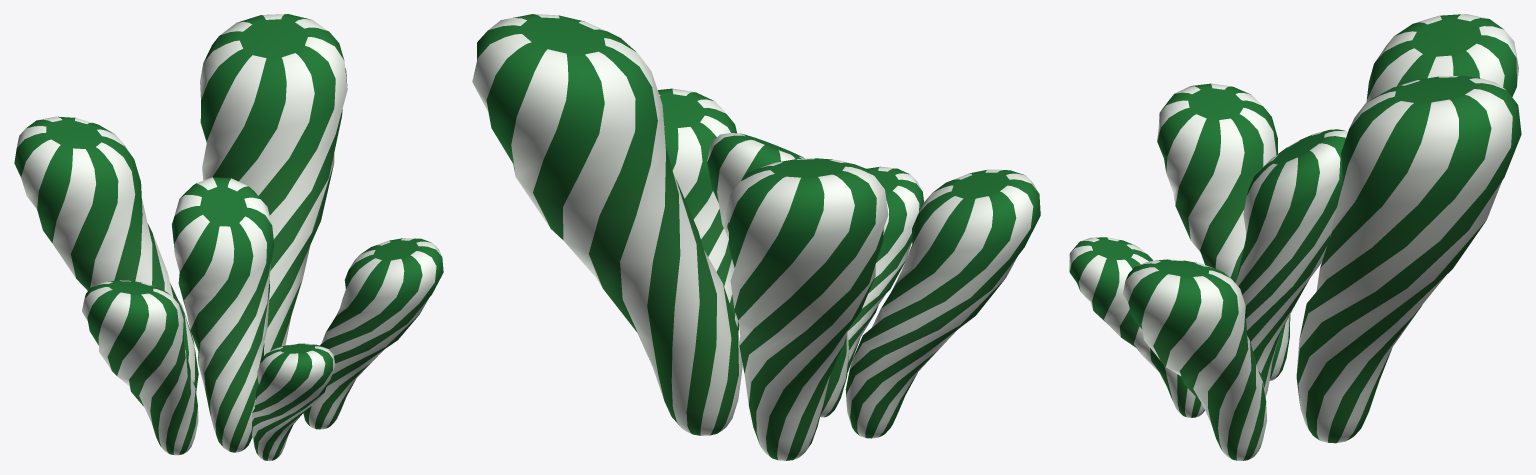
Rendered from cw_PlantsFlowers_4.fbx.
The picture shows the model from 3 angles, left to right: view 1: azimuth 30°, elevation 25°; view 2: azimuth 150°, elevation 25°; view 3: azimuth 270°, elevation 25°; orthographic projection. The views are drawn at different scales.
Parts seen in each view (by area): view 1: cw_pf_4; view 2: cw_pf_4; view 3: cw_pf_4.
Boxes of the visible parts, left/top/right/bottom form: cw_pf_4: left=14, top=14, right=443, bottom=460; cw_pf_4: left=472, top=14, right=1040, bottom=460; cw_pf_4: left=1069, top=14, right=1521, bottom=460.
Bounding box in the file's own units: 190 × 179 × 183.
